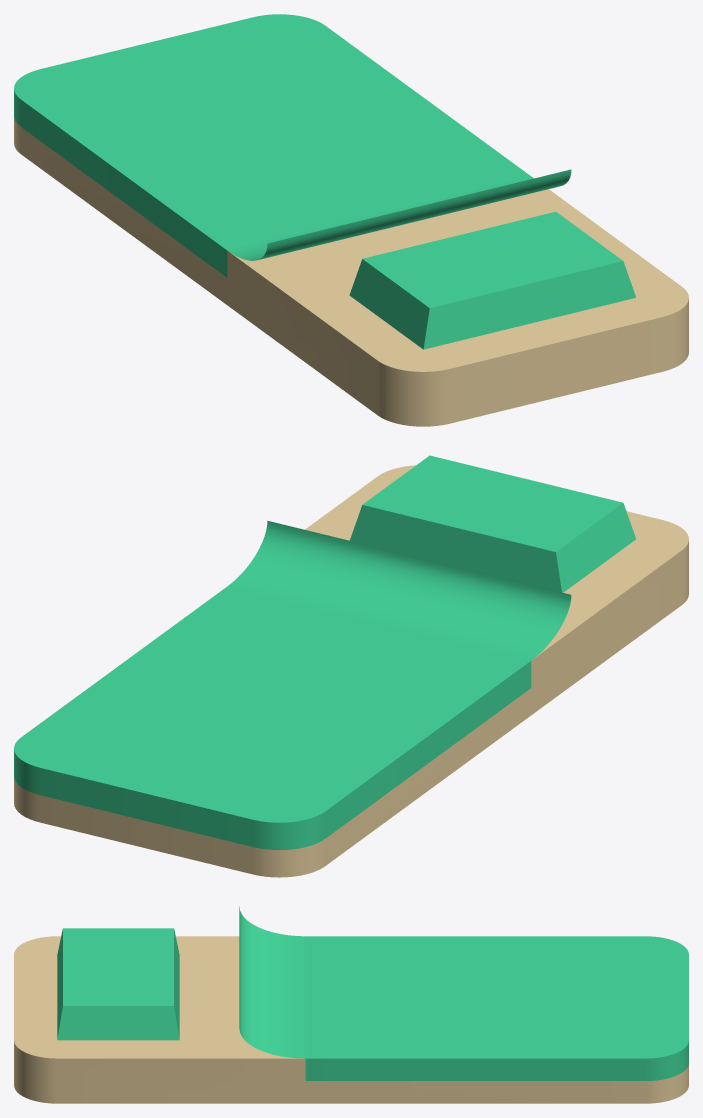
Rendered from Bedroll-efwd5fjuMU.glb.
The picture shows the model from 3 angles, top to bottom: view 1: azimuth 30°, elevation 25°; view 2: azimuth 150°, elevation 25°; view 3: azimuth 270°, elevation 25°; orthographic projection. The views are drawn at different scales.
Visible parts, largest first — view 1: bedroll; view 2: bedroll; view 3: bedroll.
Part boxes in pixels (x1,y1,x2,y2): bedroll: (14, 14, 688, 426); bedroll: (14, 455, 688, 877); bedroll: (14, 906, 688, 1103).
Size of the model in its own units: 0.2604 by 0.0748 by 0.6076.
